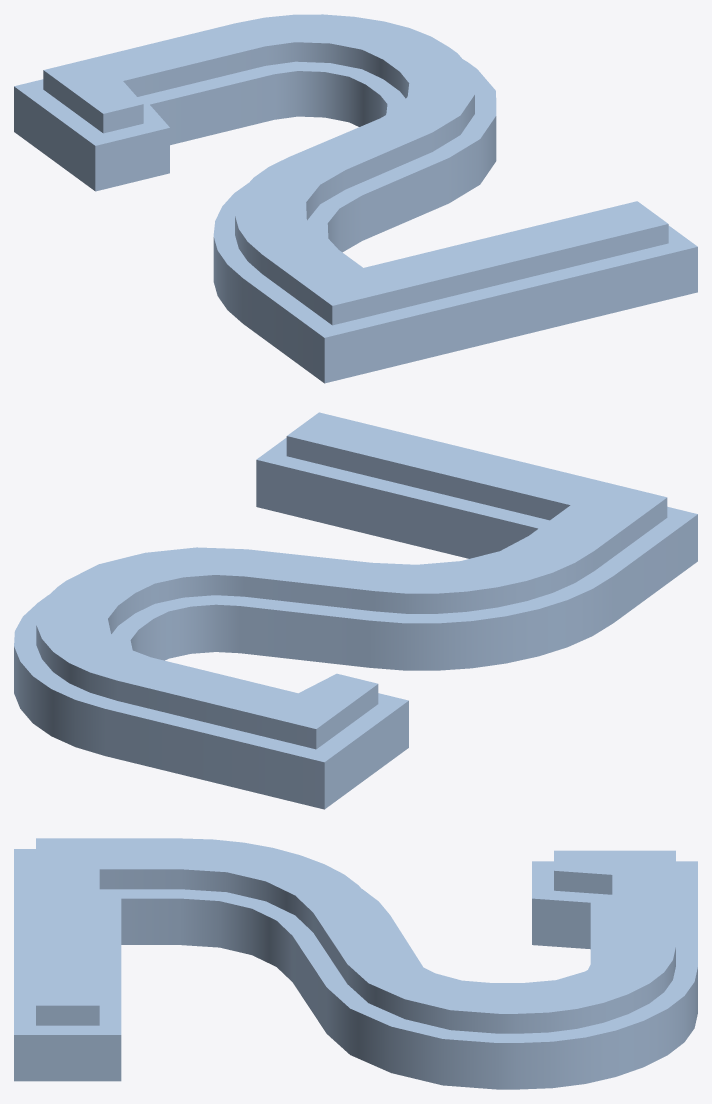
Rendered from Queen.fbx.
The picture shows the model from 3 angles, top to bottom: view 1: azimuth 30°, elevation 25°; view 2: azimuth 150°, elevation 25°; view 3: azimuth 270°, elevation 25°; orthographic projection. The views are drawn at different scales.
Parts seen in each view (by area): view 1: 2; view 2: 2; view 3: 2.
Part boxes in pixels (x1,y1,x2,y2): 2: (14, 14, 697, 383); 2: (14, 412, 697, 809); 2: (14, 838, 697, 1089).
Size of the model in its own units: 3.13 by 0.5 by 4.67.
